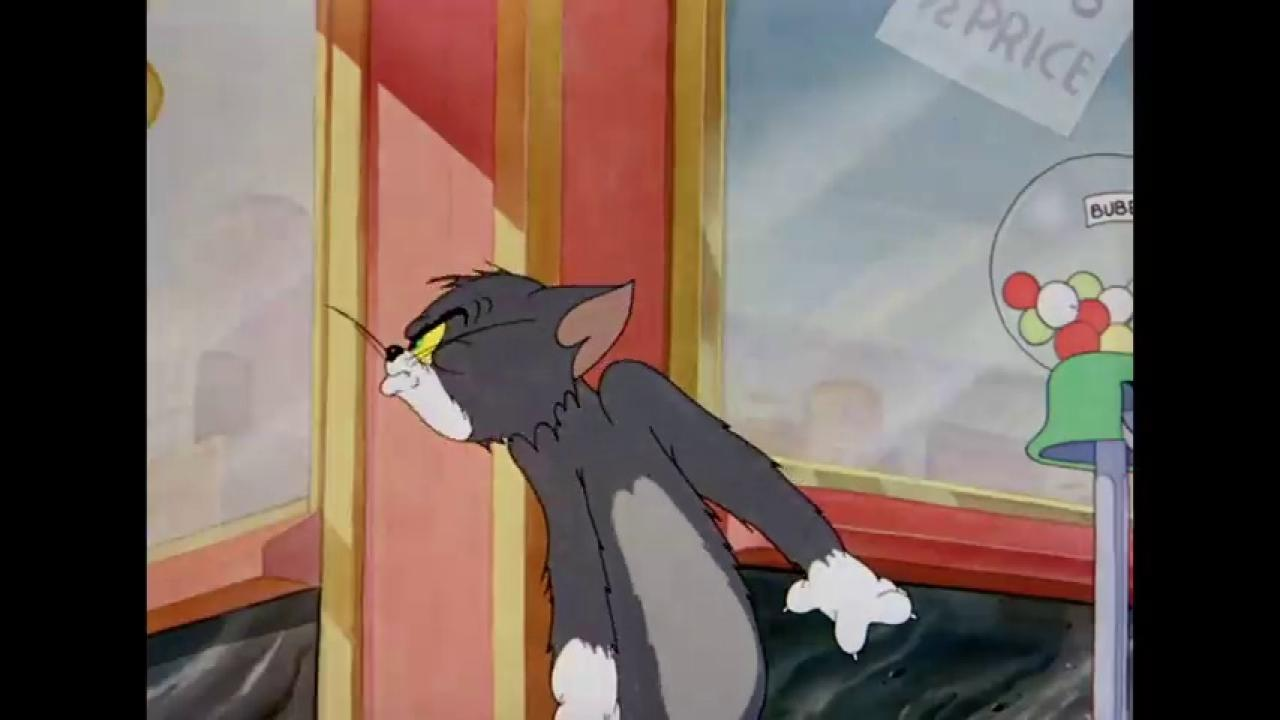Tom: (378, 256, 918, 720)
